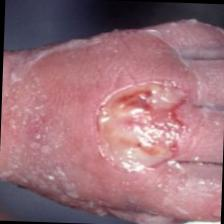extravasation-wound: (87, 73, 192, 178)
